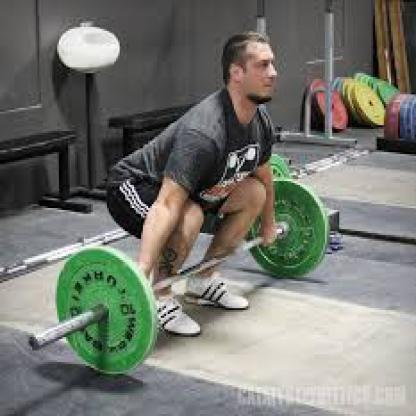barbell: (29, 179, 327, 376)
